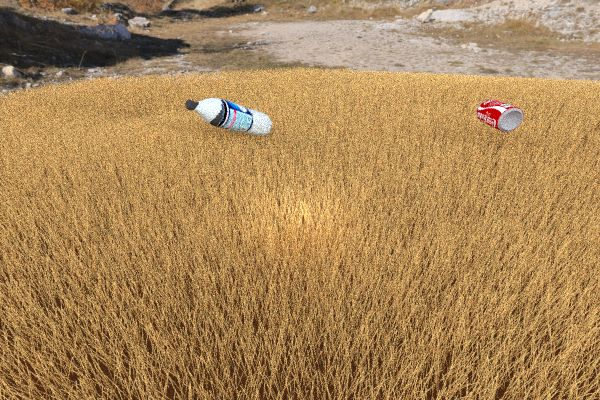bottle: (185, 98, 272, 136)
can: (476, 99, 523, 132), (110, 104, 164, 131)
